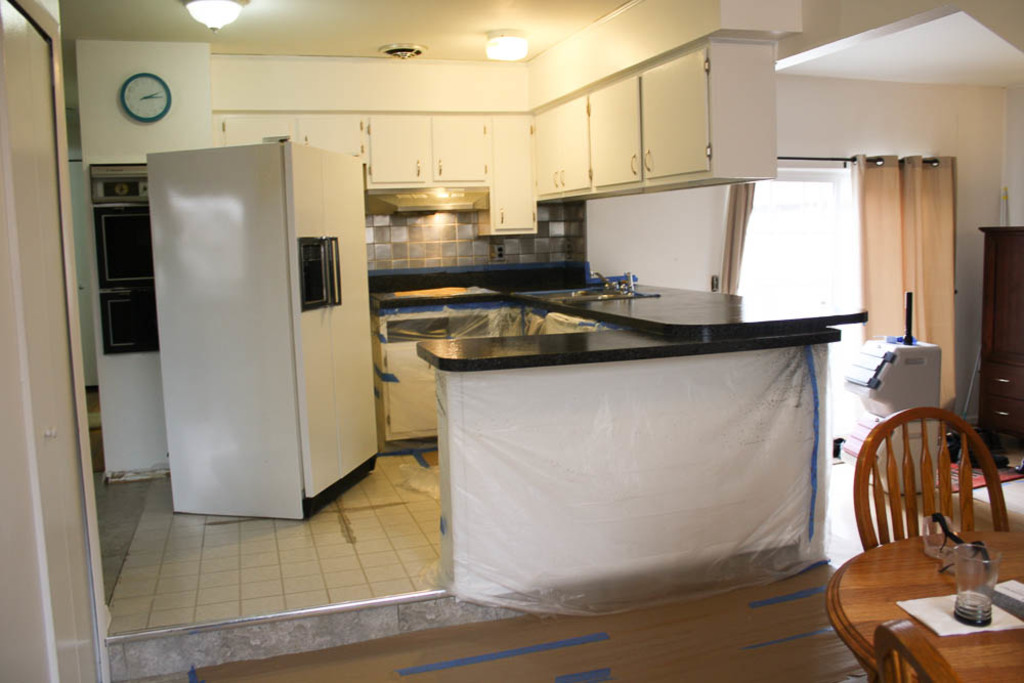cabinet door: (641, 74, 710, 169), (493, 123, 532, 231), (589, 98, 637, 182), (371, 121, 427, 181), (430, 121, 483, 180), (530, 123, 564, 194), (562, 116, 586, 189)
handle: (318, 243, 334, 305), (639, 146, 658, 174), (625, 158, 641, 175)
refrigerator door: (283, 144, 372, 477)
